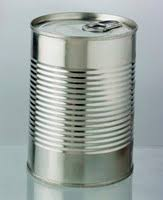can: (16, 9, 142, 194)
